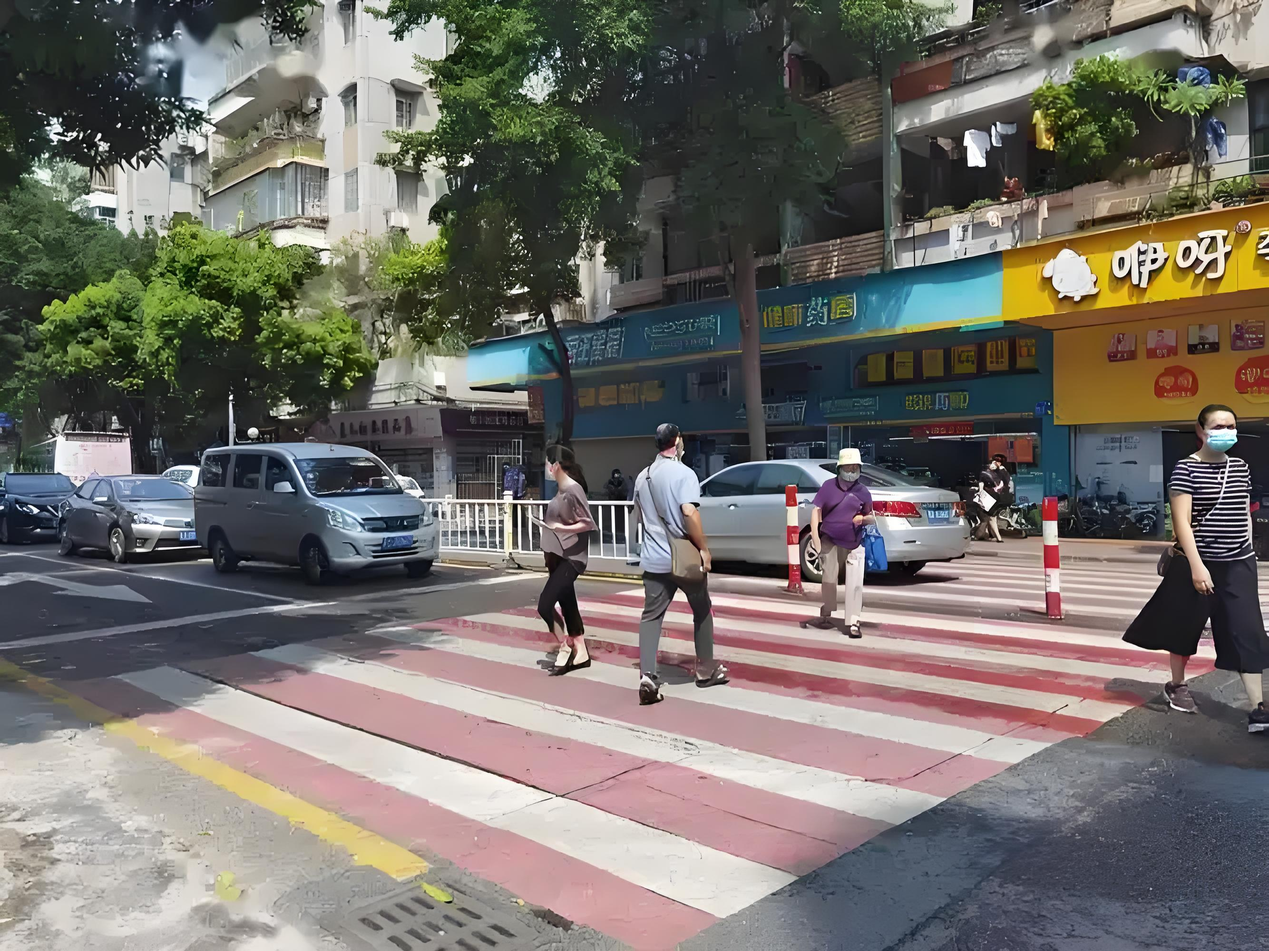car: (180, 441, 441, 590), (690, 464, 984, 589), (0, 468, 162, 561), (0, 460, 74, 553)
person: (1120, 399, 1258, 705), (626, 436, 733, 702), (516, 450, 597, 685), (1128, 450, 1215, 617), (802, 453, 881, 623), (1001, 481, 1044, 604), (986, 470, 1030, 572)
